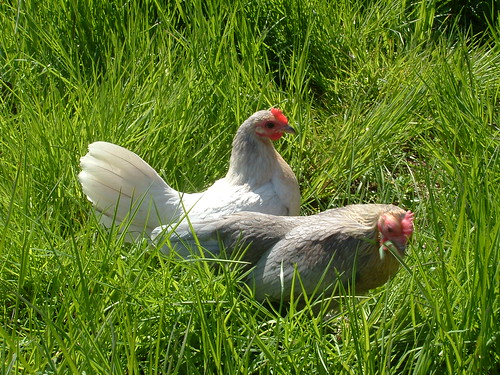chicken: (162, 203, 440, 339), (68, 102, 310, 225)
